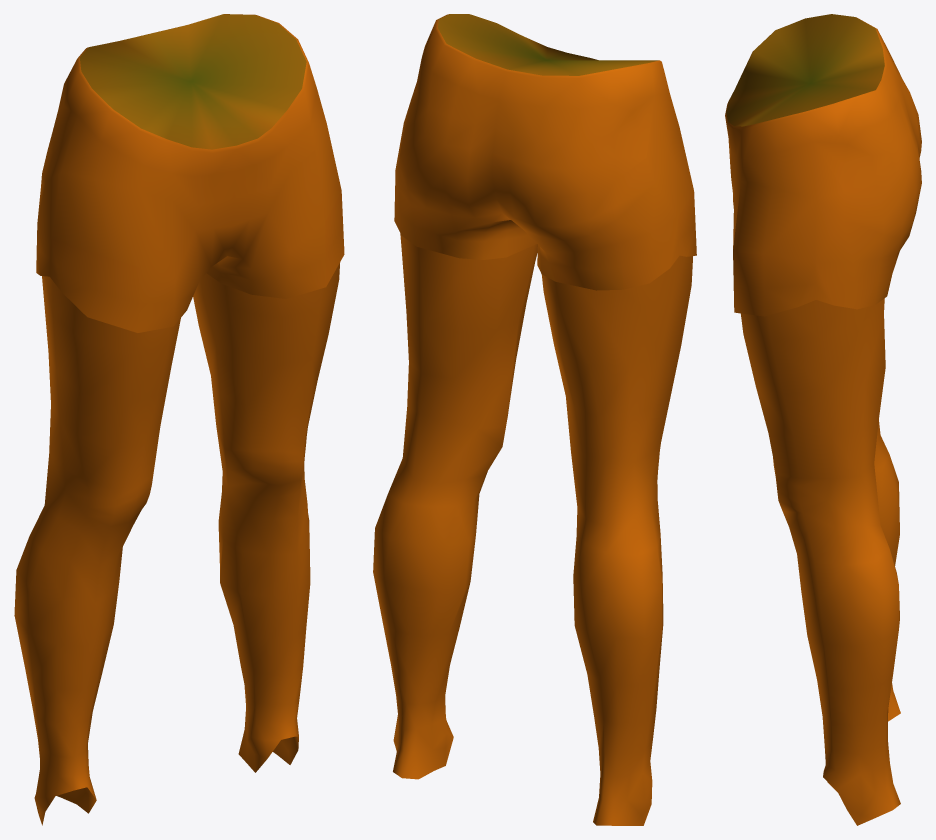
Rendered from calçaofem10.glb.
3 views of the same model, side by side, from view 1: azimuth 30°, elevation 25°; view 2: azimuth 150°, elevation 25°; view 3: azimuth 270°, elevation 25° (orthographic). The views are drawn at different scales.
Parts seen in each view (by area): view 1: hash_99D7DA7D.model; view 2: hash_99D7DA7D.model; view 3: hash_99D7DA7D.model.
Boxes of the visible parts, box(x1,y1,x2,y2) form: hash_99D7DA7D.model: box(14, 14, 344, 825); hash_99D7DA7D.model: box(373, 14, 696, 825); hash_99D7DA7D.model: box(725, 14, 921, 825).
Size of the model in its own units: 0.4138 by 1.07 by 0.2683.
